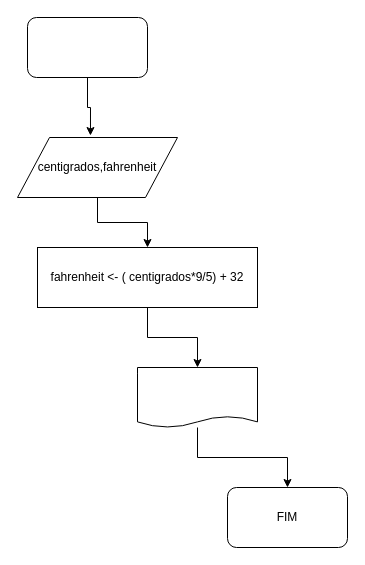
Some shapes in this 365 by 565 pixel diagram are drawn without their labels. Here are the shapes that lost their labels. From the top down, the centre of each, then its label:
At point (87, 47): "INICIO".
At point (197, 397): "fahrenheit".
